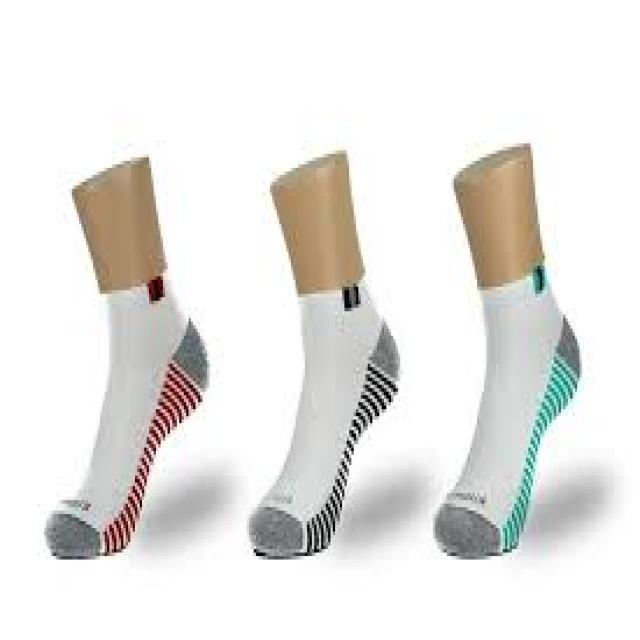sock: (42, 150, 209, 560), (430, 140, 582, 556), (247, 147, 400, 556)
